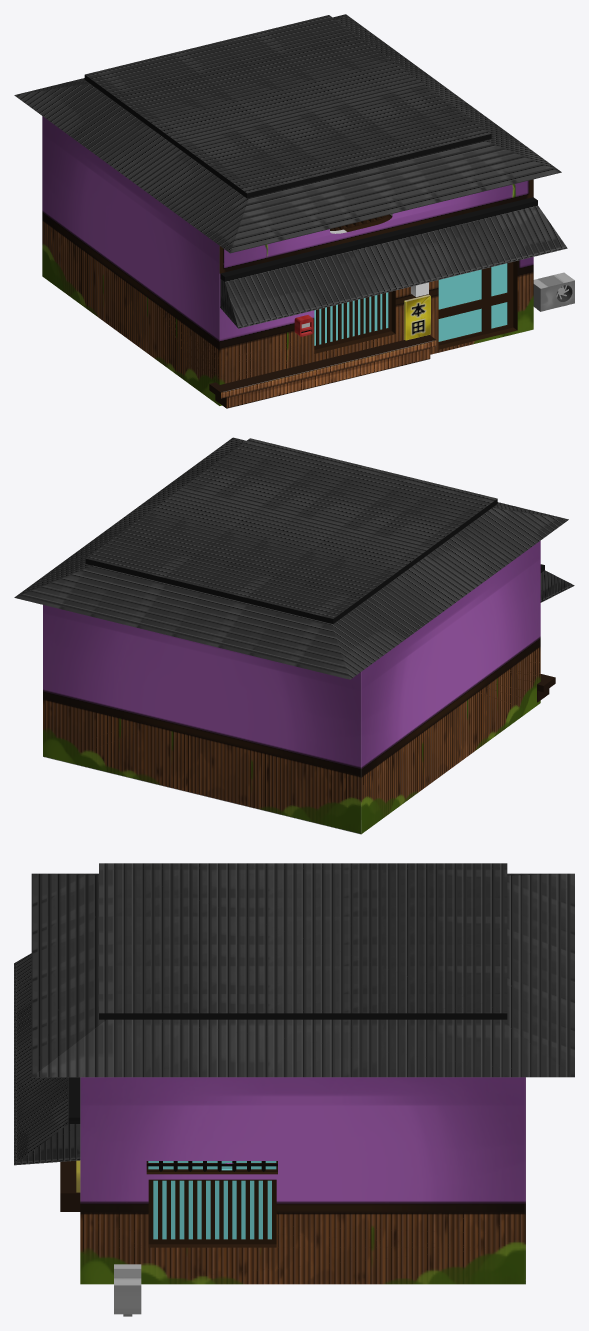
The model's file is House_Honda.fbx.
The picture shows the model from 3 angles, top to bottom: view 1: azimuth 30°, elevation 25°; view 2: azimuth 150°, elevation 25°; view 3: azimuth 270°, elevation 25°; orthographic projection. The views are drawn at different scales.
Visible parts, largest first — view 1: Top, building, Cube.015, Cube.030, Cube.011, Cube.014, Cube.010, Cube.008, Cube.016; view 2: building, Top, Cube.015; view 3: Top, building, Cube.019, Cube.015, Cube.013, Cube.008, Cube.030.
Boxes of the visible parts, left/top/right/bottom form: Top: left=14, top=14, right=561, bottom=253; building: left=42, top=116, right=533, bottom=405; Cube.015: left=220, top=197, right=567, bottom=328; Cube.030: left=209, top=335, right=436, bottom=408; Cube.011: left=438, top=268, right=485, bottom=345; Cube.014: left=314, top=291, right=391, bottom=349; Cube.010: left=486, top=262, right=513, bottom=333; Cube.008: left=533, top=272, right=574, bottom=311; Cube.016: left=404, top=294, right=430, bottom=340; building: left=43, top=541, right=540, bottom=834; Top: left=14, top=437, right=568, bottom=679; Cube.015: left=540, top=564, right=574, bottom=602; Top: left=31, top=863, right=574, bottom=1077; building: left=80, top=1077, right=525, bottom=1284; Cube.019: left=148, top=1179, right=276, bottom=1244; Cube.015: left=14, top=953, right=80, bottom=1165; Cube.013: left=146, top=1161, right=277, bottom=1171; Cube.008: left=114, top=1264, right=141, bottom=1316; Cube.030: left=60, top=1161, right=80, bottom=1211.
Bounding box in the file's own units: 1609 × 812 × 1647.
